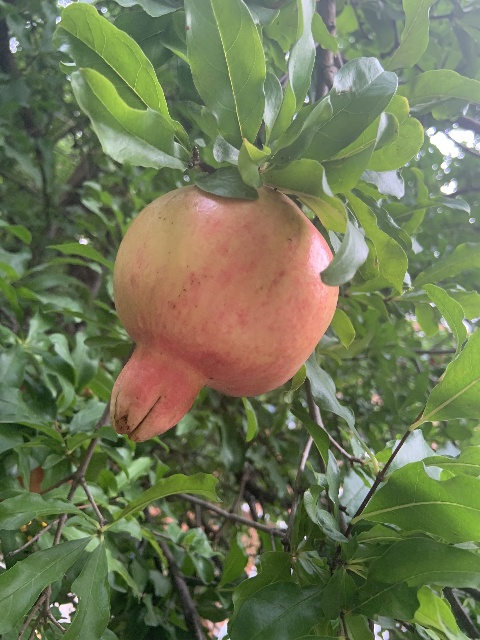ripe: (106, 182, 339, 442)
